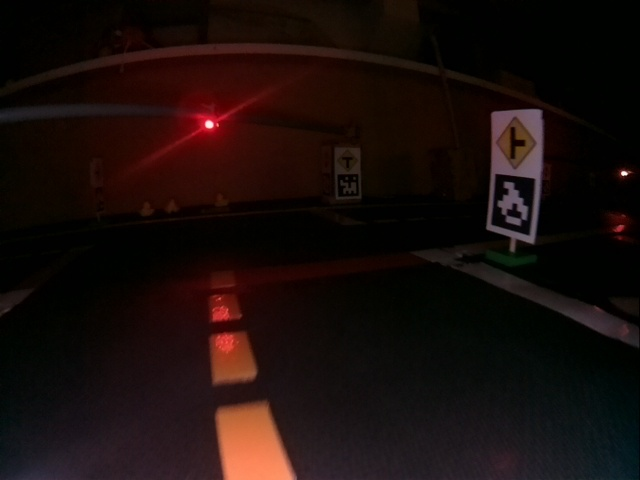Duckie: (140, 202, 154, 217), (214, 193, 228, 206), (167, 199, 178, 212)
Intersection sign: (494, 116, 534, 168), (337, 151, 356, 171)
QR code: (490, 174, 536, 236), (336, 174, 358, 198)
Traffic light: (201, 104, 219, 130)
